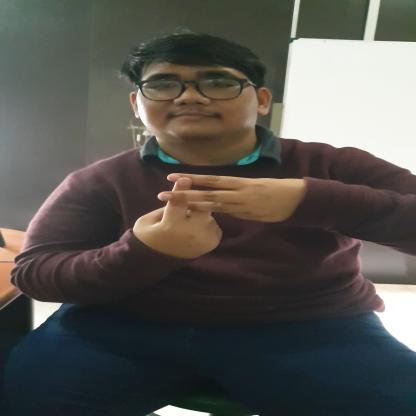B: (132, 169, 278, 258)
